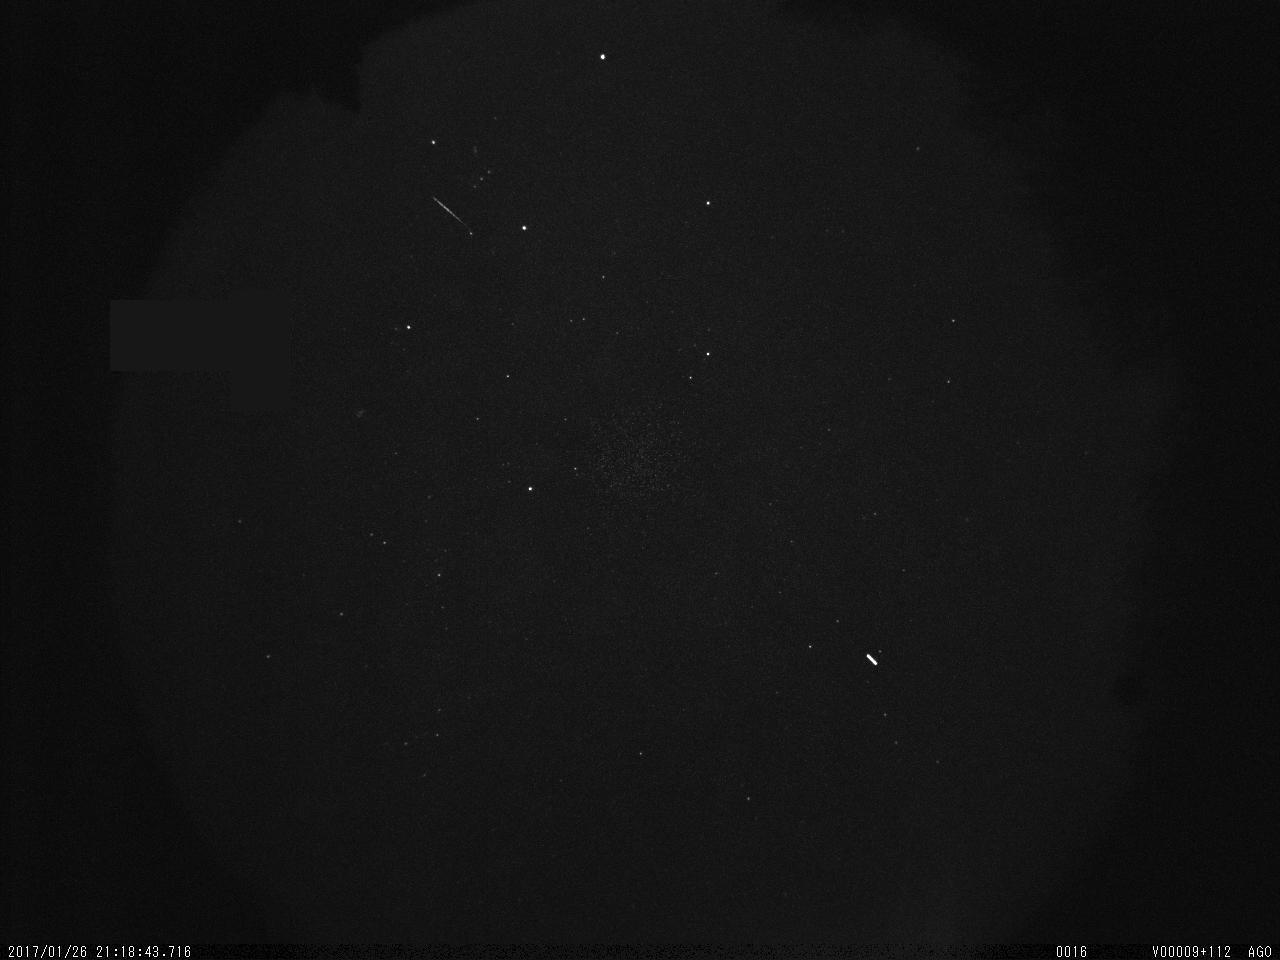meteor: (862, 648, 882, 672)
